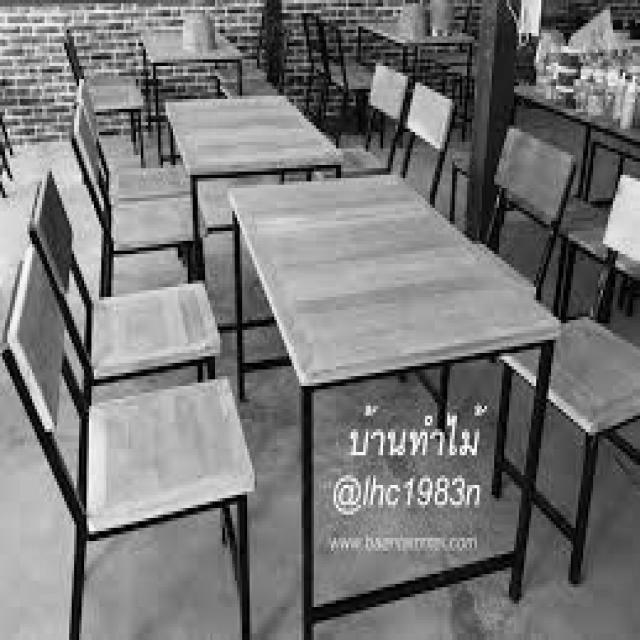table: (212, 162, 569, 401), (154, 64, 340, 180)
